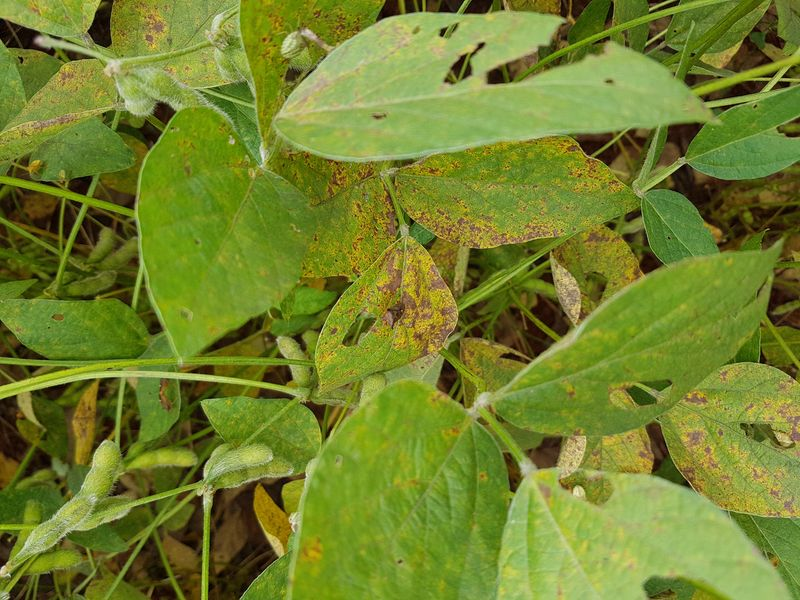Euschistus_heros_adulto: (374, 293, 417, 338)
Euschistus_heros_ninfa: (273, 24, 320, 66)
